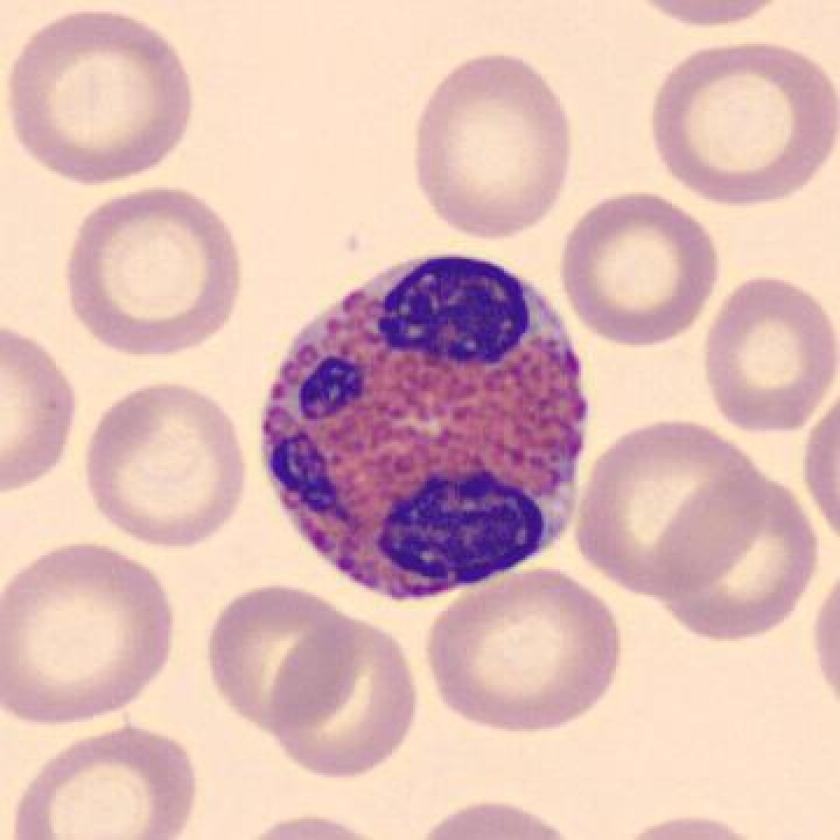eosinophil: (251, 249, 605, 610)
